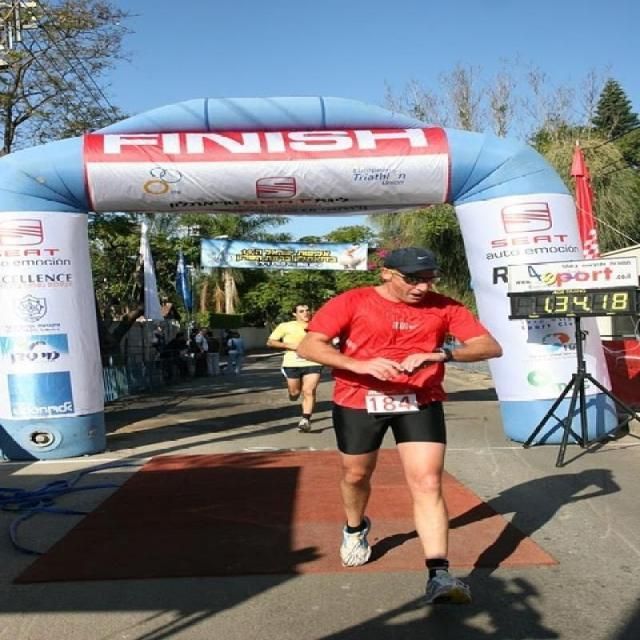dorsal: (362, 388, 428, 417)
